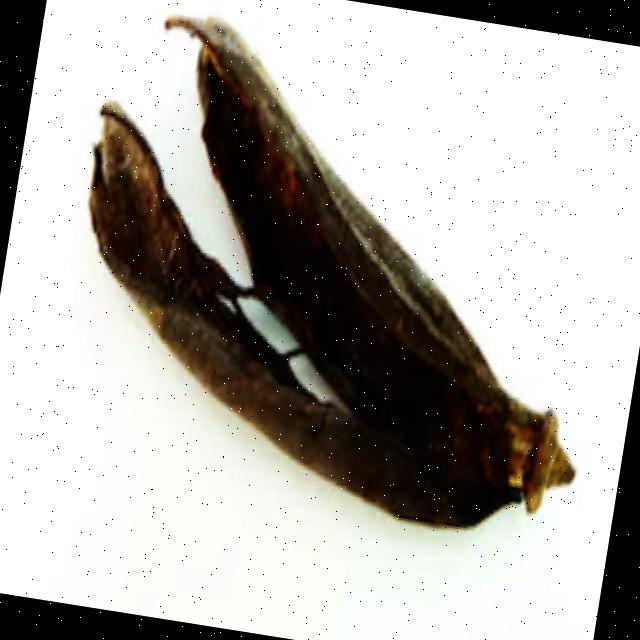rotten banana: (0, 13, 640, 618)
